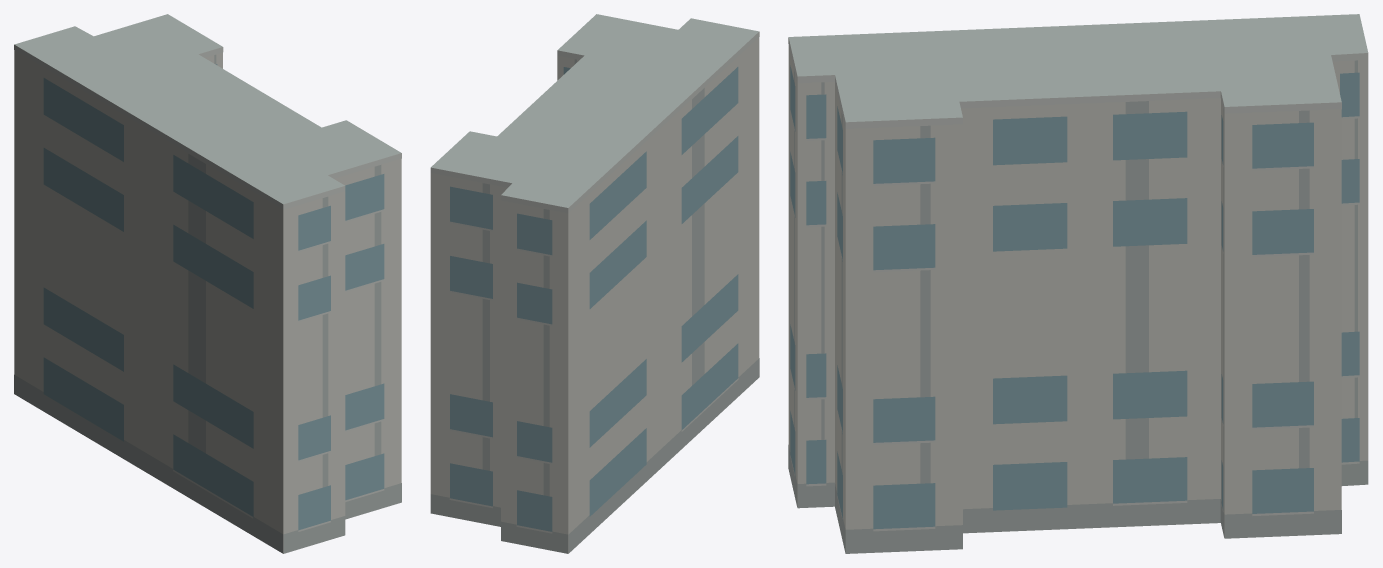
Rendered from survey-upis-32616876.glb.
The picture shows the model from 3 angles, left to right: view 1: azimuth 30°, elevation 25°; view 2: azimuth 150°, elevation 25°; view 3: azimuth 270°, elevation 25°; orthographic projection. The views are drawn at different scales.
Visible parts, largest first — view 1: survey-upis-32616876.tmp; view 2: survey-upis-32616876.tmp; view 3: survey-upis-32616876.tmp.
Part boxes in pixels (x1,y1,x2,y2): survey-upis-32616876.tmp: (14, 14, 401, 553); survey-upis-32616876.tmp: (430, 14, 759, 553); survey-upis-32616876.tmp: (788, 14, 1368, 553).
Bounding box in the file's own units: 8.21 × 15.25 × 18.58.
